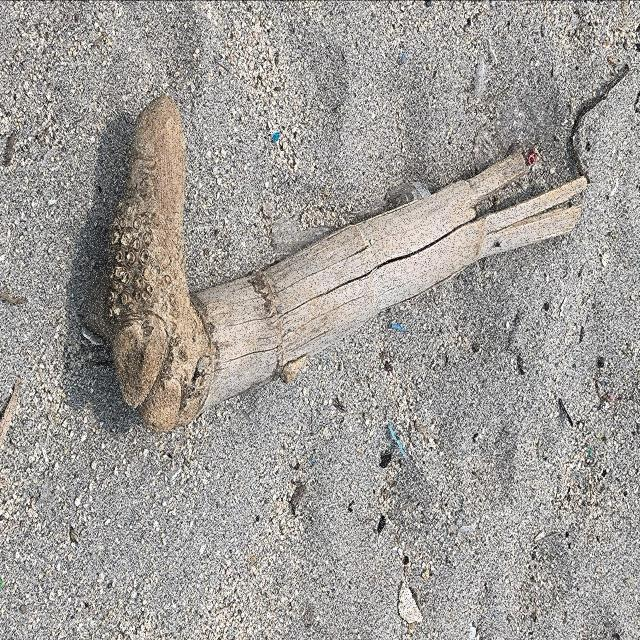wood_waste: (113, 91, 590, 426)
